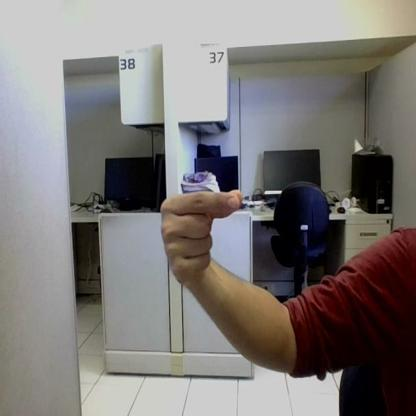G: (162, 192, 242, 284)
